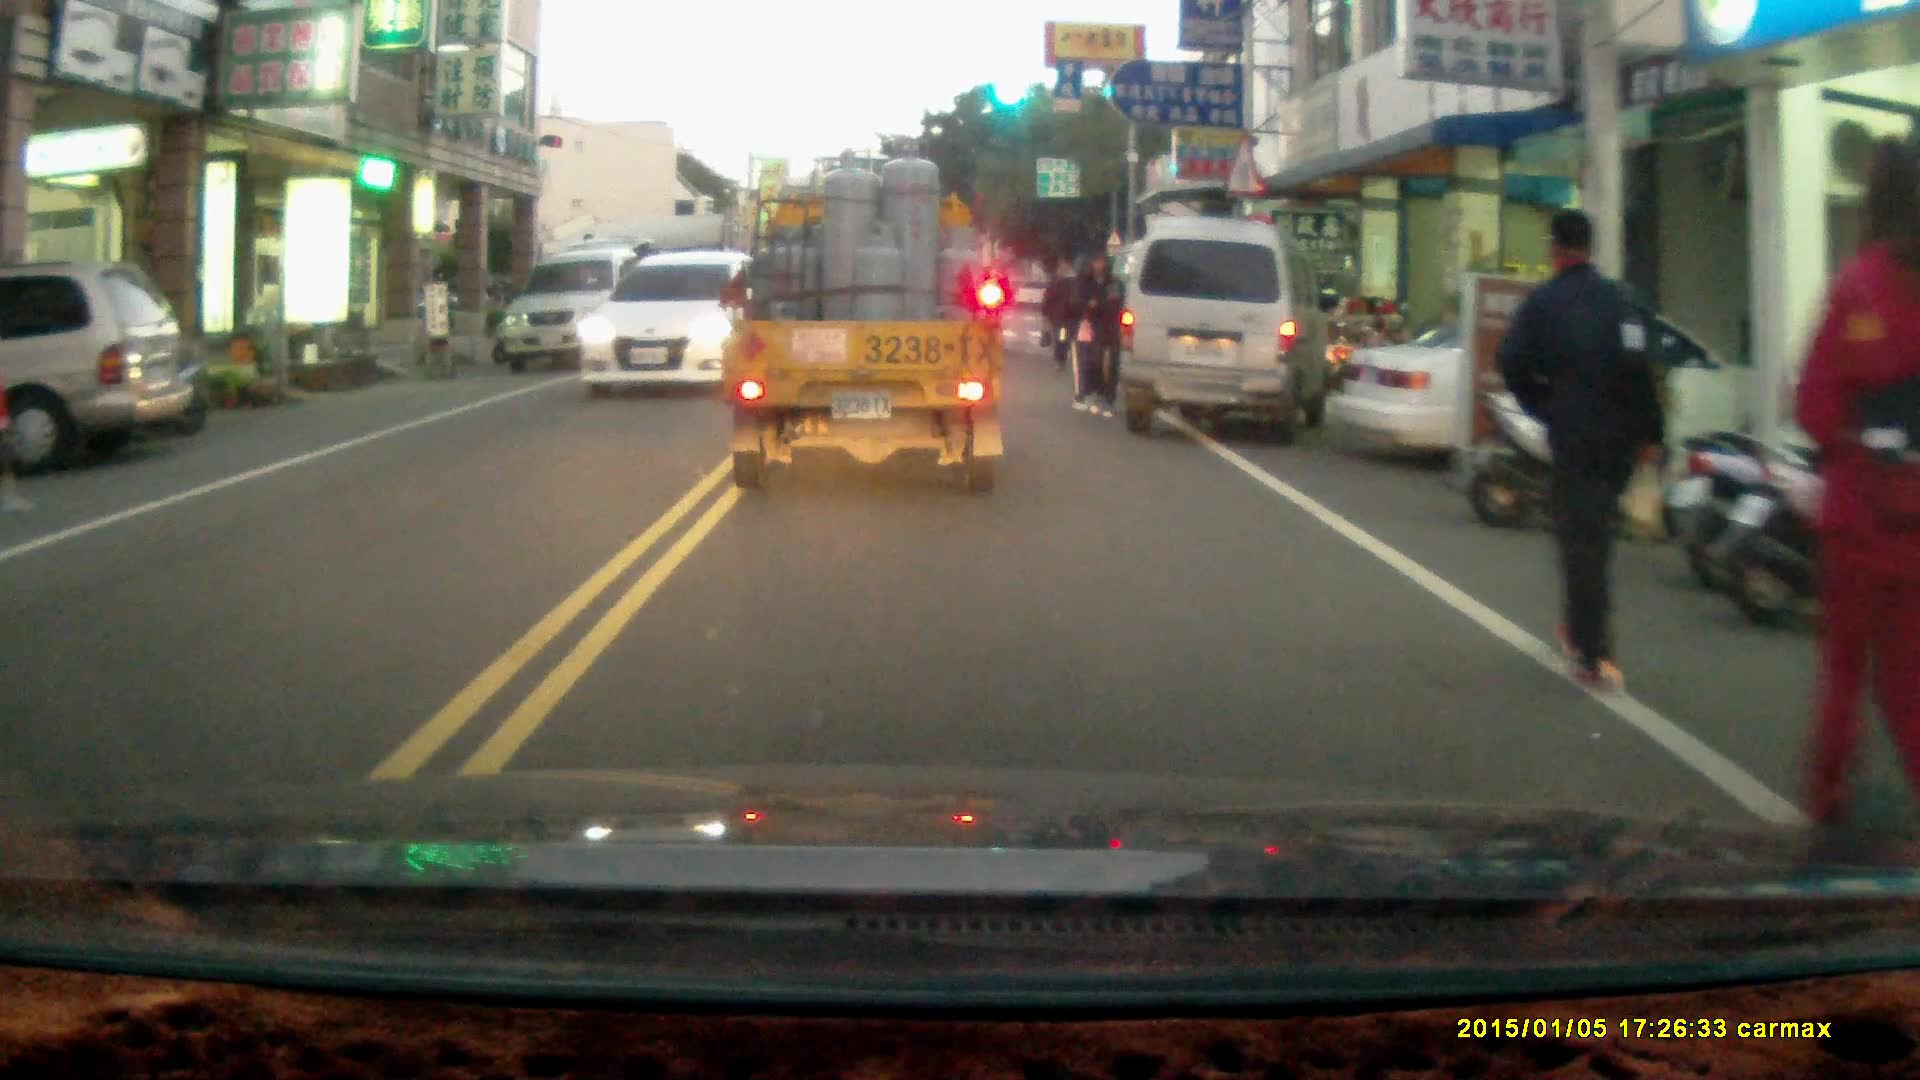pedestrian: (1786, 135, 1920, 845), (1500, 207, 1672, 699), (1075, 248, 1121, 414), (1040, 251, 1086, 366)
vehicle: (721, 181, 1007, 492), (1334, 299, 1799, 475), (1118, 212, 1336, 440), (1, 260, 195, 470), (575, 248, 814, 394), (495, 249, 665, 373)
